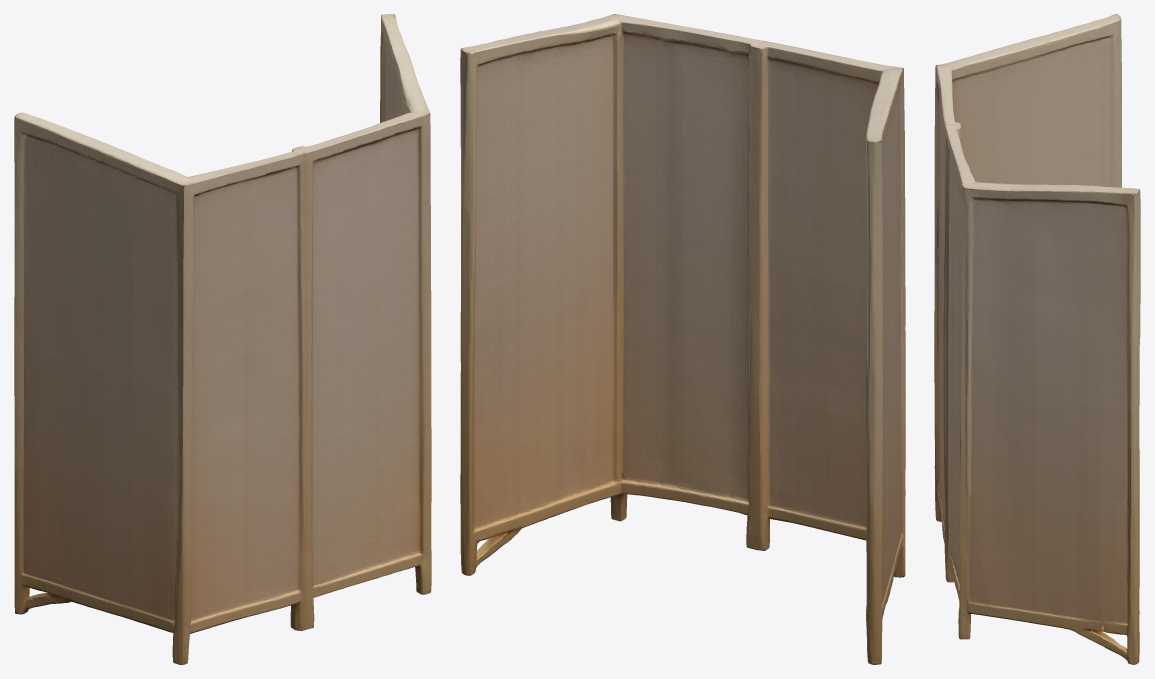
The picture shows the model from 3 angles, left to right: view 1: azimuth 30°, elevation 25°; view 2: azimuth 150°, elevation 25°; view 3: azimuth 270°, elevation 25°; orthographic projection. The views are drawn at different scales.
Visible parts, largest first — view 1: world; view 2: world; view 3: world.
Part boxes in pixels (box(x1,y1,x2,y2)): world: box(14, 14, 431, 664); world: box(460, 14, 905, 664); world: box(934, 14, 1140, 664).
Bounding box in the file's own units: 0.8238 × 1 × 0.397.
Materials: 1 (1 with a texture image).
